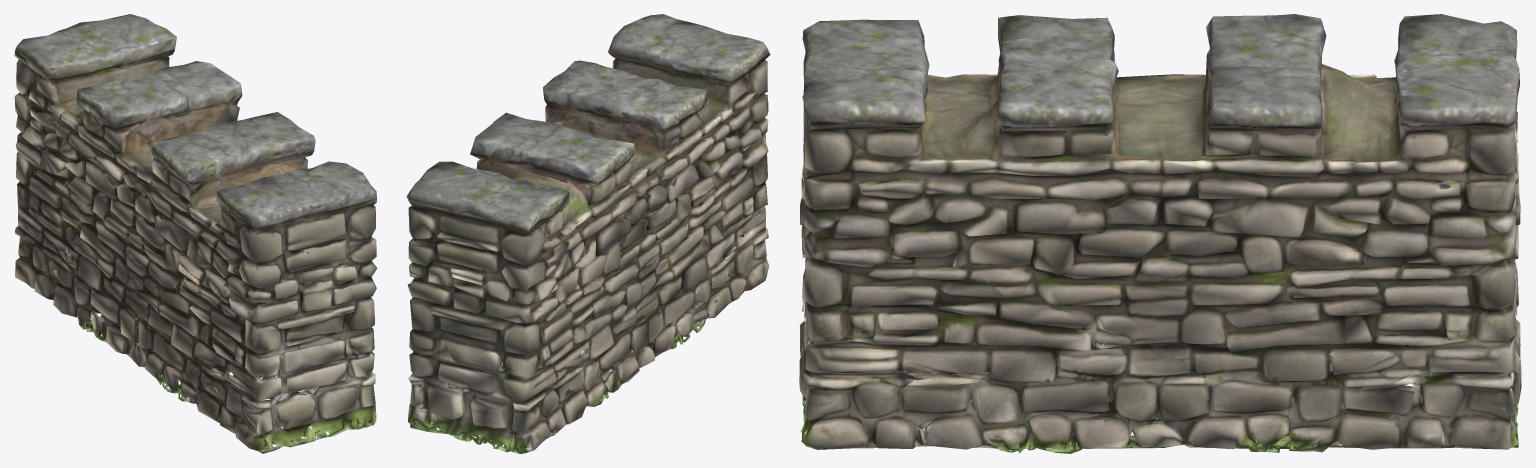
The model's file is Meshy_AI_A_low_rise_ancient_st_0902011602_stylize.fbx.
The picture shows the model from 3 angles, left to right: view 1: azimuth 30°, elevation 25°; view 2: azimuth 150°, elevation 25°; view 3: azimuth 270°, elevation 25°; orthographic projection. The views are drawn at different scales.
Visible parts, largest first — view 1: file1; view 2: file1; view 3: file1.
Part boxes in pixels (x1,y1,x2,y2): file1: (14,14,377,453); file1: (406,14,770,453); file1: (799,14,1521,453).
Size of the model in its own units: 62.36 by 107 by 200.
1 material, 1 textured.
